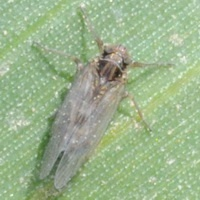insect: (30, 62, 123, 199)
